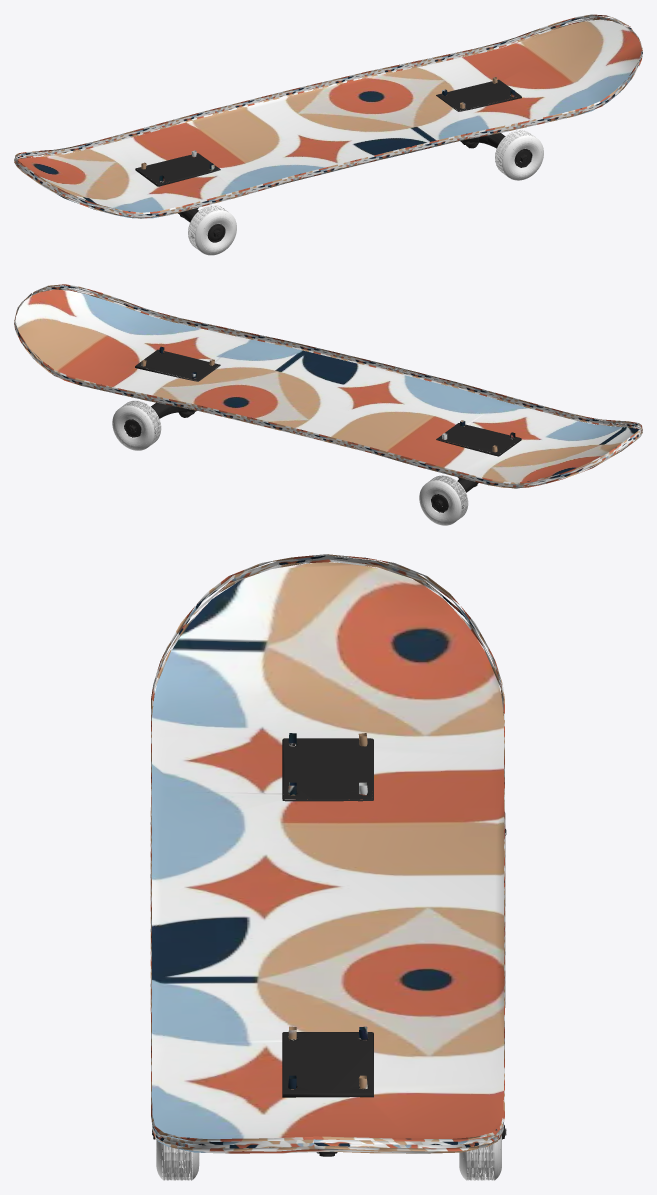
Rendered from board3-small.glb.
3 renders of one model, top to bottom at view 1: azimuth 30°, elevation 25°; view 2: azimuth 150°, elevation 25°; view 3: azimuth 270°, elevation 25°, orthographic. The views are drawn at different scales.
Visible parts, largest first — view 1: Skateboard_0, Skateboard1_2, Skateboard1_0, Skateboard1_0.001; view 2: Skateboard_0, Skateboard1_2, Skateboard1_0, Skateboard1_0.001; view 3: Skateboard_0, Skateboard1_0, Skateboard1_0.001, Skateboard1_2.
Boxes of the visible parts, box(x1,y1,x2,y2) form: Skateboard_0: box(14, 14, 642, 218); Skateboard1_2: box(188, 130, 543, 255); Skateboard1_0: box(180, 79, 532, 237); Skateboard1_0.001: box(135, 153, 225, 242); Skateboard_0: box(14, 284, 642, 488); Skateboard1_2: box(112, 400, 468, 525); Skateboard1_0: box(124, 349, 478, 512); Skateboard1_0.001: box(436, 423, 521, 506); Skateboard_0: box(150, 554, 505, 1153); Skateboard1_0: box(152, 829, 506, 1156); Skateboard1_0.001: box(282, 738, 506, 833); Skateboard1_2: box(156, 1135, 501, 1180).
Bounding box in the file's own units: 8.63 × 1.24 × 2.21.
Materials: 4 (1 with a texture image).
